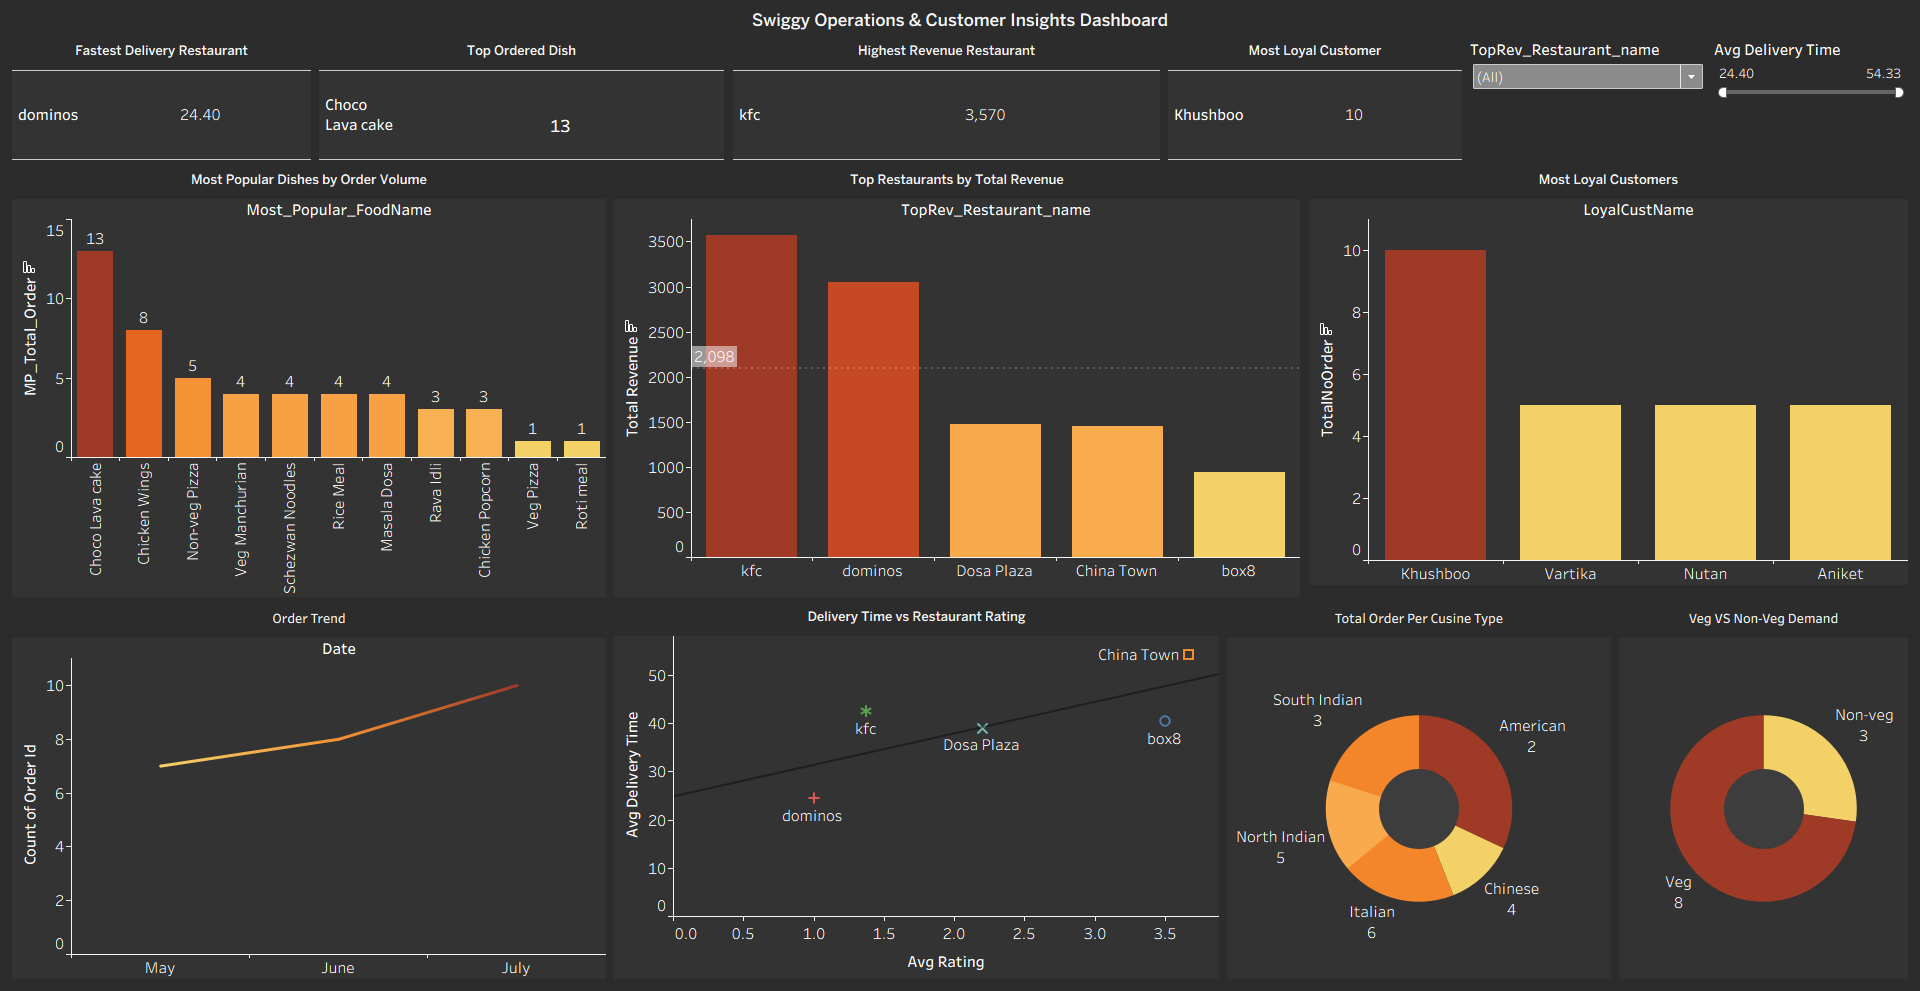

Layout of this report page (visuals, bound fields, positions):
{"tool":"tableau","page":{"name":"Dashboard 1","canvas":[1000,1000],"units":"permille","ordinal":0},"visuals":[{"type":"title","box":[4.9,9.9,990.3,35.8]},{"type":"worksheet","title":"FastestDeliveryKPI","mark":"Automatic","rows":["Restaurant_Name"],"box":[4.9,45.6,159.9,128.2]},{"type":"worksheet","title":"MostPopularKPI","mark":"Automatic","rows":["f_name (Most_Popular_Dish.csv)"],"box":[164.7,45.6,215.1,128.2]},{"type":"worksheet","title":"Top Revenue KPI","mark":"Automatic","rows":["r_name (Top_Restaurant_Revenue.csv)"],"box":[379.8,45.6,226.5,128.2]},{"type":"worksheet","title":"TopLoyalCustomerKPI","mark":"Automatic","rows":["name (Loyal_Customers.csv)"],"box":[606.2,45.6,157,128.2]},{"type":"filter","title":"Top Restaurants by Total Sales Revenue","param":"[federated.191t5m316kgj6n13529la039nph4].[none:r_name (Top_Restaurant_Revenue.cs","box":[763.3,45.6,127,128.2]},{"type":"filter","title":"Delivery Time vs Average Restaurant Rating","param":"[federated.191t5m316kgj6n13529la039nph4].[sum:Avg_Delivery_Time:qk]","box":[890.2,45.6,104.9,128.2]},{"type":"worksheet","title":"Most Popular Dish","mark":"Automatic","rows":["Total_Order (Most_Popular_Dish.csv)"],"cols":["f_name (Most_Popular_Dish.csv)"],"box":[4.9,173.9,313.3,435.6]},{"type":"worksheet","title":"Top Restaurants by Total Sales Revenue","mark":"Automatic","rows":["Total_Order"],"cols":["r_name (Top_Restaurant_Revenue.csv)"],"box":[318.2,173.9,361.2,435.6]},{"type":"worksheet","title":"Top Loyal Customers Based on Repeat Orders","mark":"Automatic","rows":["Total_Orders"],"cols":["name (Loyal_Customers.csv)"],"box":[679.4,173.9,315.8,435.6]},{"type":"worksheet","title":"OrderTrend","mark":"Automatic","rows":["order_id"],"cols":["date"],"box":[4.9,609.5,313.3,380.7]},{"type":"worksheet","title":"Delivery Time vs Average Restaurant Rating","mark":"Automatic","rows":["Avg_Delivery_Time"],"cols":["Avg_Rating"],"box":[318.2,609.5,318.8,380.7]},{"type":"worksheet","title":"TotalOrderPerCusine","mark":"Automatic","rows":["Calculation_706783687414366210","Calculation_706783687414378500"],"box":[637,609.5,203.6,380.7]},{"type":"worksheet","title":"Veg_NonVegDemand","mark":"Automatic","rows":["Calculation_706783687414366210","Calculation_706783687414378500"],"box":[840.6,609.5,154.5,380.7]}]}

Visuals, with their boxes on the dashboard's canvas, which has no fixed pixel size, in thousandths of its width and height (x1, y1, x2, y2). These are canvas units, not pixel positions in the 1920x991 screenshot, which may show the page scaled, cropped or inside an application window:
title: pyautogui.locateOnScreen(5, 10, 995, 46)
"FastestDeliveryKPI" worksheet: pyautogui.locateOnScreen(5, 46, 165, 174)
"MostPopularKPI" worksheet: pyautogui.locateOnScreen(165, 46, 380, 174)
"Top Revenue KPI" worksheet: pyautogui.locateOnScreen(380, 46, 606, 174)
"TopLoyalCustomerKPI" worksheet: pyautogui.locateOnScreen(606, 46, 763, 174)
"Top Restaurants by Total Sales Revenue" filter: pyautogui.locateOnScreen(763, 46, 890, 174)
"Delivery Time vs Average Restaurant Rating" filter: pyautogui.locateOnScreen(890, 46, 995, 174)
"Most Popular Dish" worksheet: pyautogui.locateOnScreen(5, 174, 318, 610)
"Top Restaurants by Total Sales Revenue" worksheet: pyautogui.locateOnScreen(318, 174, 679, 610)
"Top Loyal Customers Based on Repeat Orders" worksheet: pyautogui.locateOnScreen(679, 174, 995, 610)
"OrderTrend" worksheet: pyautogui.locateOnScreen(5, 610, 318, 990)
"Delivery Time vs Average Restaurant Rating" worksheet: pyautogui.locateOnScreen(318, 610, 637, 990)
"TotalOrderPerCusine" worksheet: pyautogui.locateOnScreen(637, 610, 841, 990)
"Veg_NonVegDemand" worksheet: pyautogui.locateOnScreen(841, 610, 995, 990)
